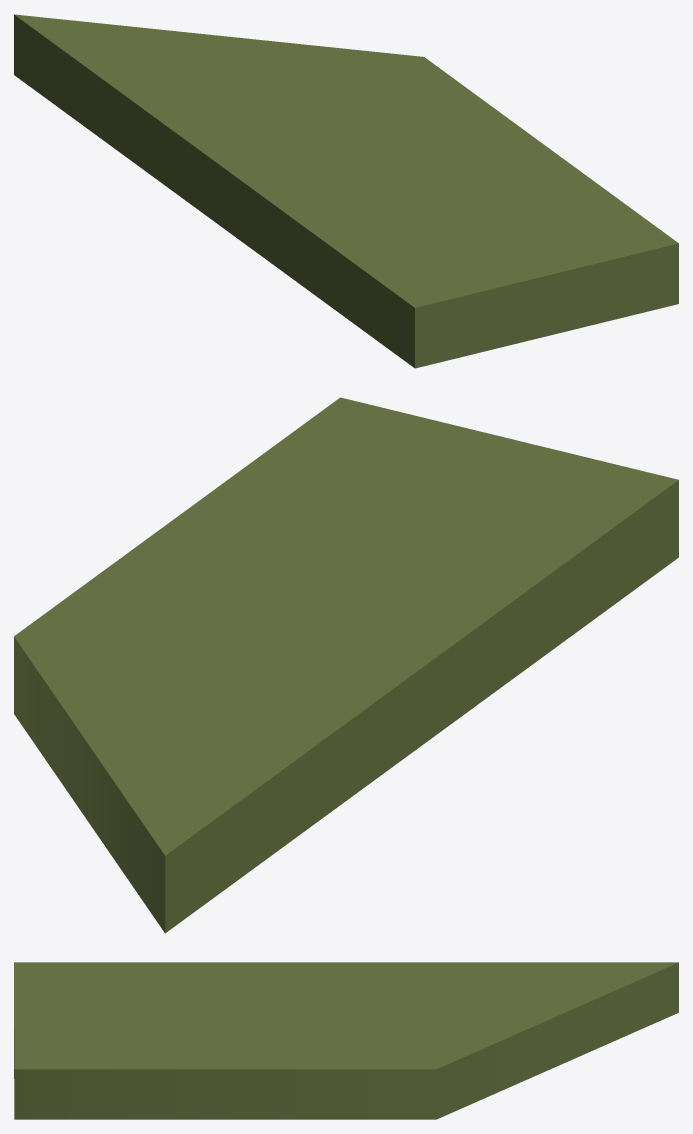
Rendered from ground_09.fbx.
The picture shows the model from 3 angles, top to bottom: view 1: azimuth 30°, elevation 25°; view 2: azimuth 150°, elevation 25°; view 3: azimuth 270°, elevation 25°; orthographic projection. The views are drawn at different scales.
Parts seen in each view (by area): view 1: ground_09; view 2: ground_09; view 3: ground_09.
Part boxes in pixels (box(x1,y1,x2,y2)): ground_09: box(14, 14, 678, 368); ground_09: box(14, 397, 678, 933); ground_09: box(14, 962, 678, 1119).
Size of the model in its own units: 11.12 by 2.44 by 29.25.
